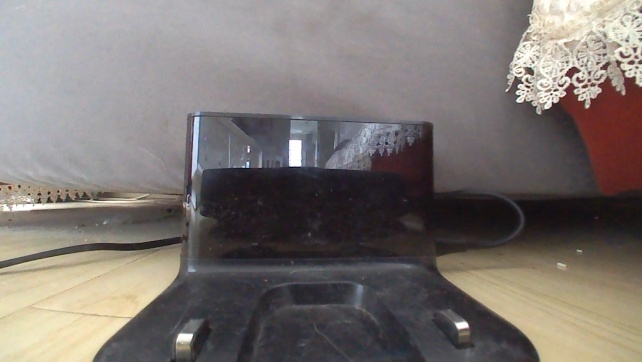charger: (88, 105, 545, 361)
wire: (0, 233, 185, 273), (433, 185, 529, 255)
